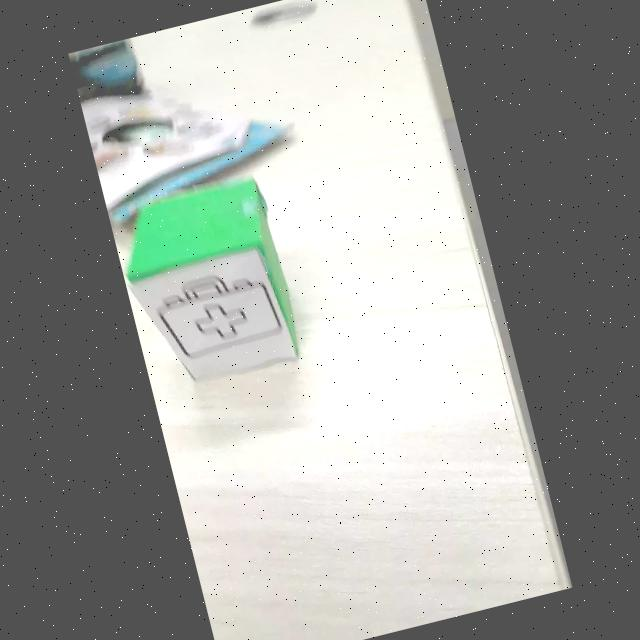Medkit: (158, 277, 281, 357)
